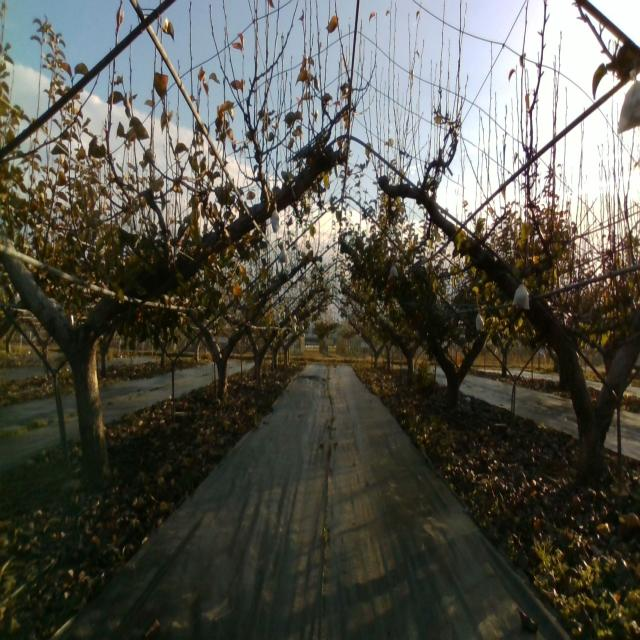pearbags: (617, 69, 640, 134), (512, 280, 530, 310)
